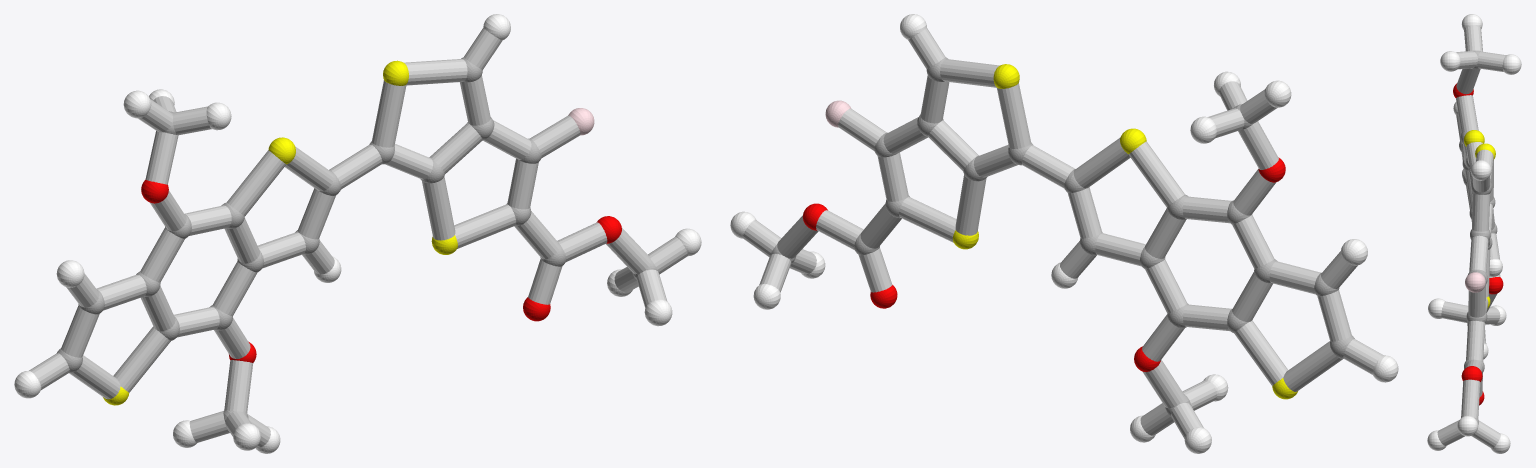
File: Dimethoxy_Benzodithiophene_Phi_5_Theta_170_Methylcarbonyl_3_Fluoro_Thienothiophene.glb
The picture shows the model from 3 angles, left to right: view 1: azimuth 30°, elevation 25°; view 2: azimuth 150°, elevation 25°; view 3: azimuth 270°, elevation 25°; orthographic projection. The views are drawn at different scales.
Visible parts, largest first — view 1: grp15205, grp8689, grp1, grp7241, grp13395; view 2: grp15205, grp8689, grp1, grp7241, grp13395; view 3: grp15205, grp8689, grp1, grp13395, grp7241, grp14843.
Boxes of the visible parts, x1,y1,x2,y2 form: grp15205: (29, 28, 687, 447); grp8689: (14, 14, 701, 453); grp1: (57, 57, 657, 421); grp7241: (103, 60, 457, 405); grp13395: (141, 179, 621, 362); grp15205: (742, 28, 1383, 438); grp8689: (730, 14, 1398, 453); grp1: (770, 57, 1354, 417); grp7241: (952, 64, 1297, 399); grp13395: (802, 157, 1285, 371); grp15205: (1437, 26, 1506, 448); grp8689: (1427, 14, 1521, 453); grp1: (1459, 50, 1497, 424); grp13395: (1453, 83, 1503, 405); grp7241: (1464, 130, 1495, 308); grp14843: (1465, 272, 1485, 292).
Bounding box in the file's own units: 16.96 × 9.43 × 2.71.
